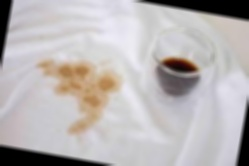coffee: (57, 65, 115, 101), (81, 99, 103, 122), (40, 62, 60, 76), (68, 121, 87, 134)
